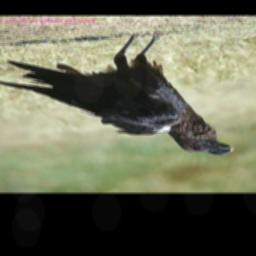Crow: (0, 33, 236, 156)
